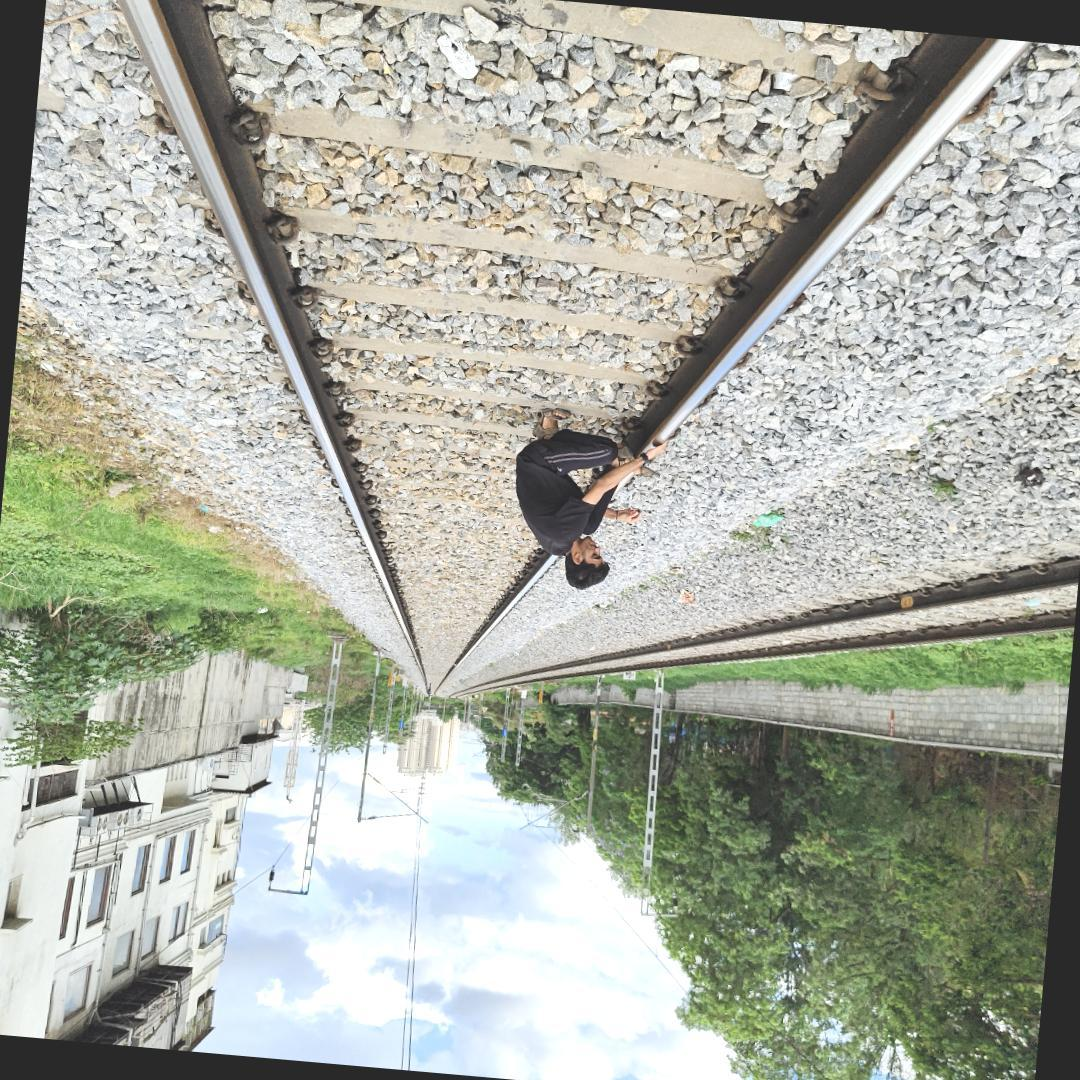sitting: (482, 408, 670, 602)
